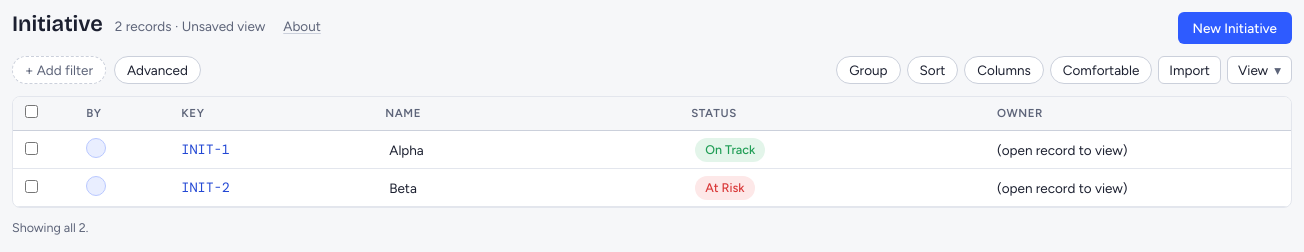
TableView: inline cell editing › commits an edit via PATCH with expected_version and updates the row without a full reload
Click the button with aria-label "Edit Name for INIT-1".
click(407, 150)  # box [385, 139, 667, 161]
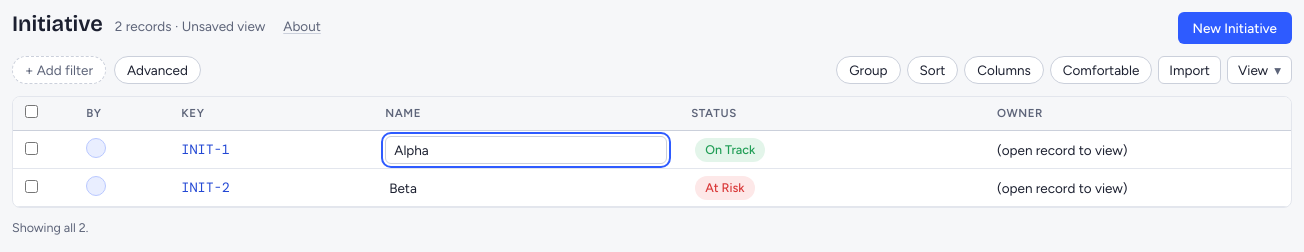
Replace the text in the field named "Name value for INIT-1" with "Alpha Two" at x=526, y=150, box [385, 136, 667, 164]
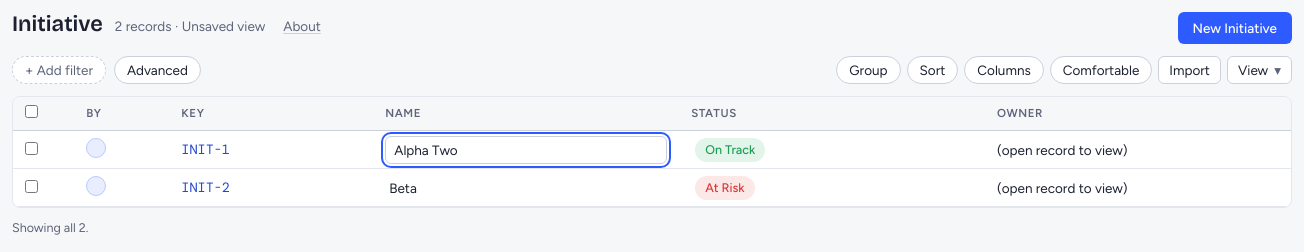
Press Enter
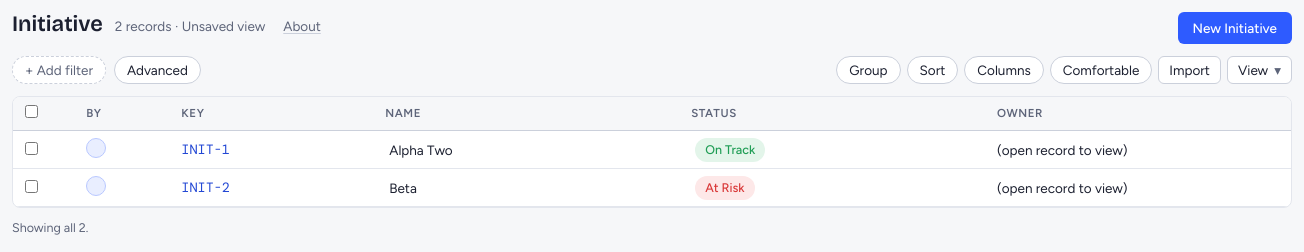
Expected: the button with aria-label "Edit Name for INIT-1" reads "Alpha Two", [385, 139, 667, 161]
